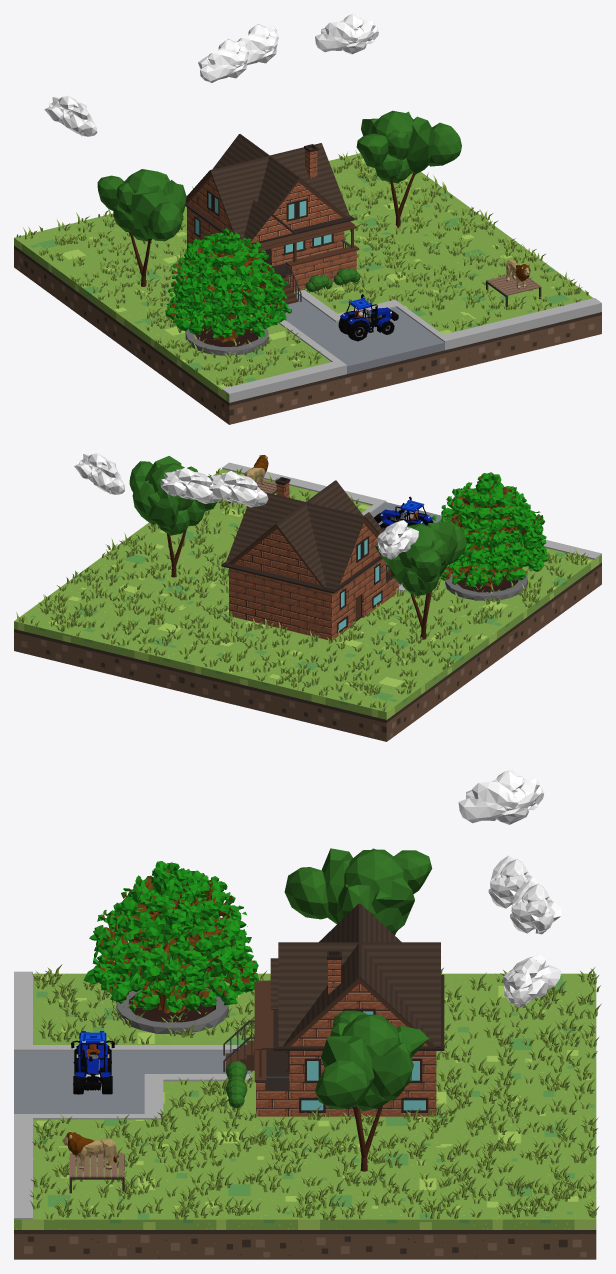
The picture shows the model from 3 angles, top to bottom: view 1: azimuth 30°, elevation 25°; view 2: azimuth 150°, elevation 25°; view 3: azimuth 270°, elevation 25°; orthographic projection. The views are drawn at different scales.
Visible parts, largest first — view 1: Cube.006, Cube.469, Circle.012_Grass_0.192, OBJRANDOM_CEIBA, Cube.007, tree, tree.001, VEHICLES_TRACTOR, Cube.009; view 2: Cube.006, Cube.469, Circle.012_Grass_0.192, OBJRANDOM_CEIBA, Cube.007, tree.001, tree, VEHICLES_TRACTOR, ANIMAL_LEON; view 3: Cube.006, Circle.012_Grass_0.192, Cube.469, OBJRANDOM_CEIBA, tree, Cube.007, tree.001, VEHICLES_TRACTOR, Cube.009, ANIMAL_LEON.
Boxes of the visible parts, x1,y1,x2,y2 form: Cube.006: (14,153,601,424); Cube.469: (185,134,359,304); Circle.012_Grass_0.192: (16,150,588,386); OBJRANDOM_CEIBA: (165,228,291,355); Cube.007: (44,14,378,136); tree: (356,110,461,228); tree.001: (97,169,186,286); VEHICLES_TRACTOR: (338,294,398,341); Cube.009: (486,274,541,306); Cube.006: (14,462,601,741); Cube.469: (221,477,398,640); Circle.012_Grass_0.192: (16,468,588,711); OBJRANDOM_CEIBA: (432,472,547,600); Cube.007: (74,453,418,559); tree.001: (375,521,467,639); tree: (129,456,216,577); VEHICLES_TRACTOR: (374,496,433,530); ANIMAL_LEON: (244,455,268,484); Cube.006: (14,971,596,1259); Circle.012_Grass_0.192: (29,964,601,1220); Cube.469: (223,903,444,1116); OBJRANDOM_CEIBA: (83,861,258,1034); tree: (315,1010,428,1171); Cube.007: (458,770,561,1007); tree.001: (284,848,432,935); VEHICLES_TRACTOR: (71,1031,114,1094); Cube.009: (69,1153,124,1193); ANIMAL_LEON: (62,1131,117,1169).
Size of the model in its own units: 4071 by 2192 by 4040.
33 materials, 4 textured.
